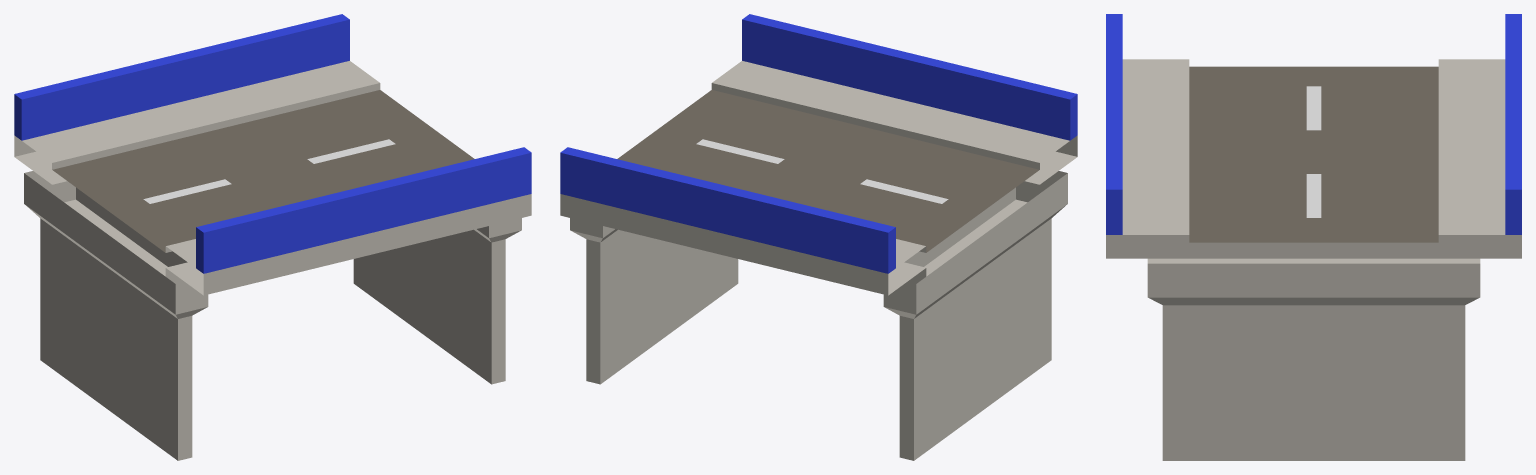
File: bridge-tile_02.fbx
The picture shows the model from 3 angles, left to right: view 1: azimuth 30°, elevation 25°; view 2: azimuth 150°, elevation 25°; view 3: azimuth 270°, elevation 25°; orthographic projection. The views are drawn at different scales.
Parts seen in each view (by area): view 1: bridge_02; view 2: bridge_02; view 3: bridge_02.
Part boxes in pixels (left/top/right/bottom): bridge_02: left=14, top=14, right=531, bottom=460; bridge_02: left=560, top=14, right=1077, bottom=460; bridge_02: left=1106, top=14, right=1521, bottom=460.
Size of the model in its own units: 1055 by 720 by 1000.
